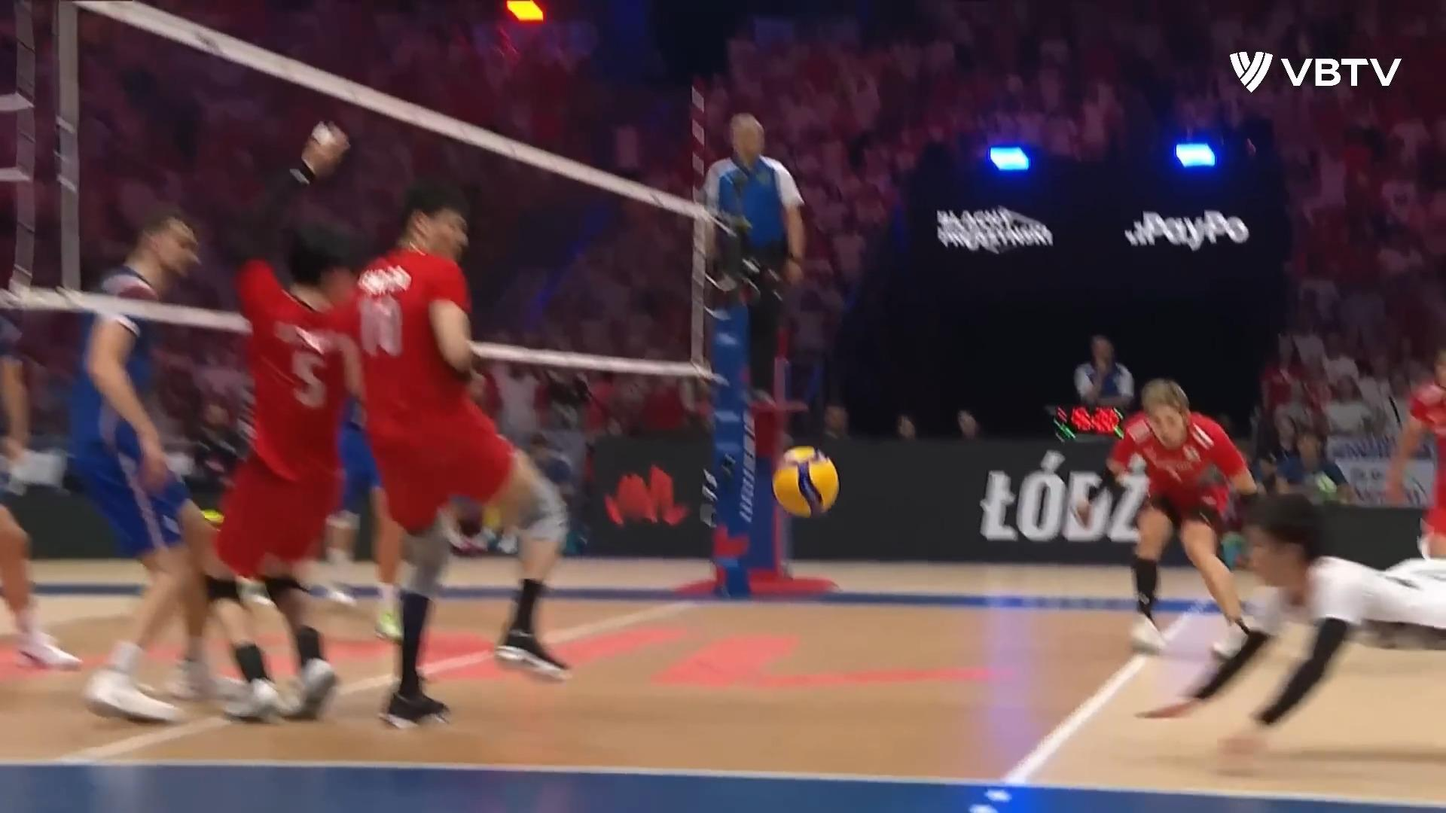ball: (770, 449, 840, 522)
